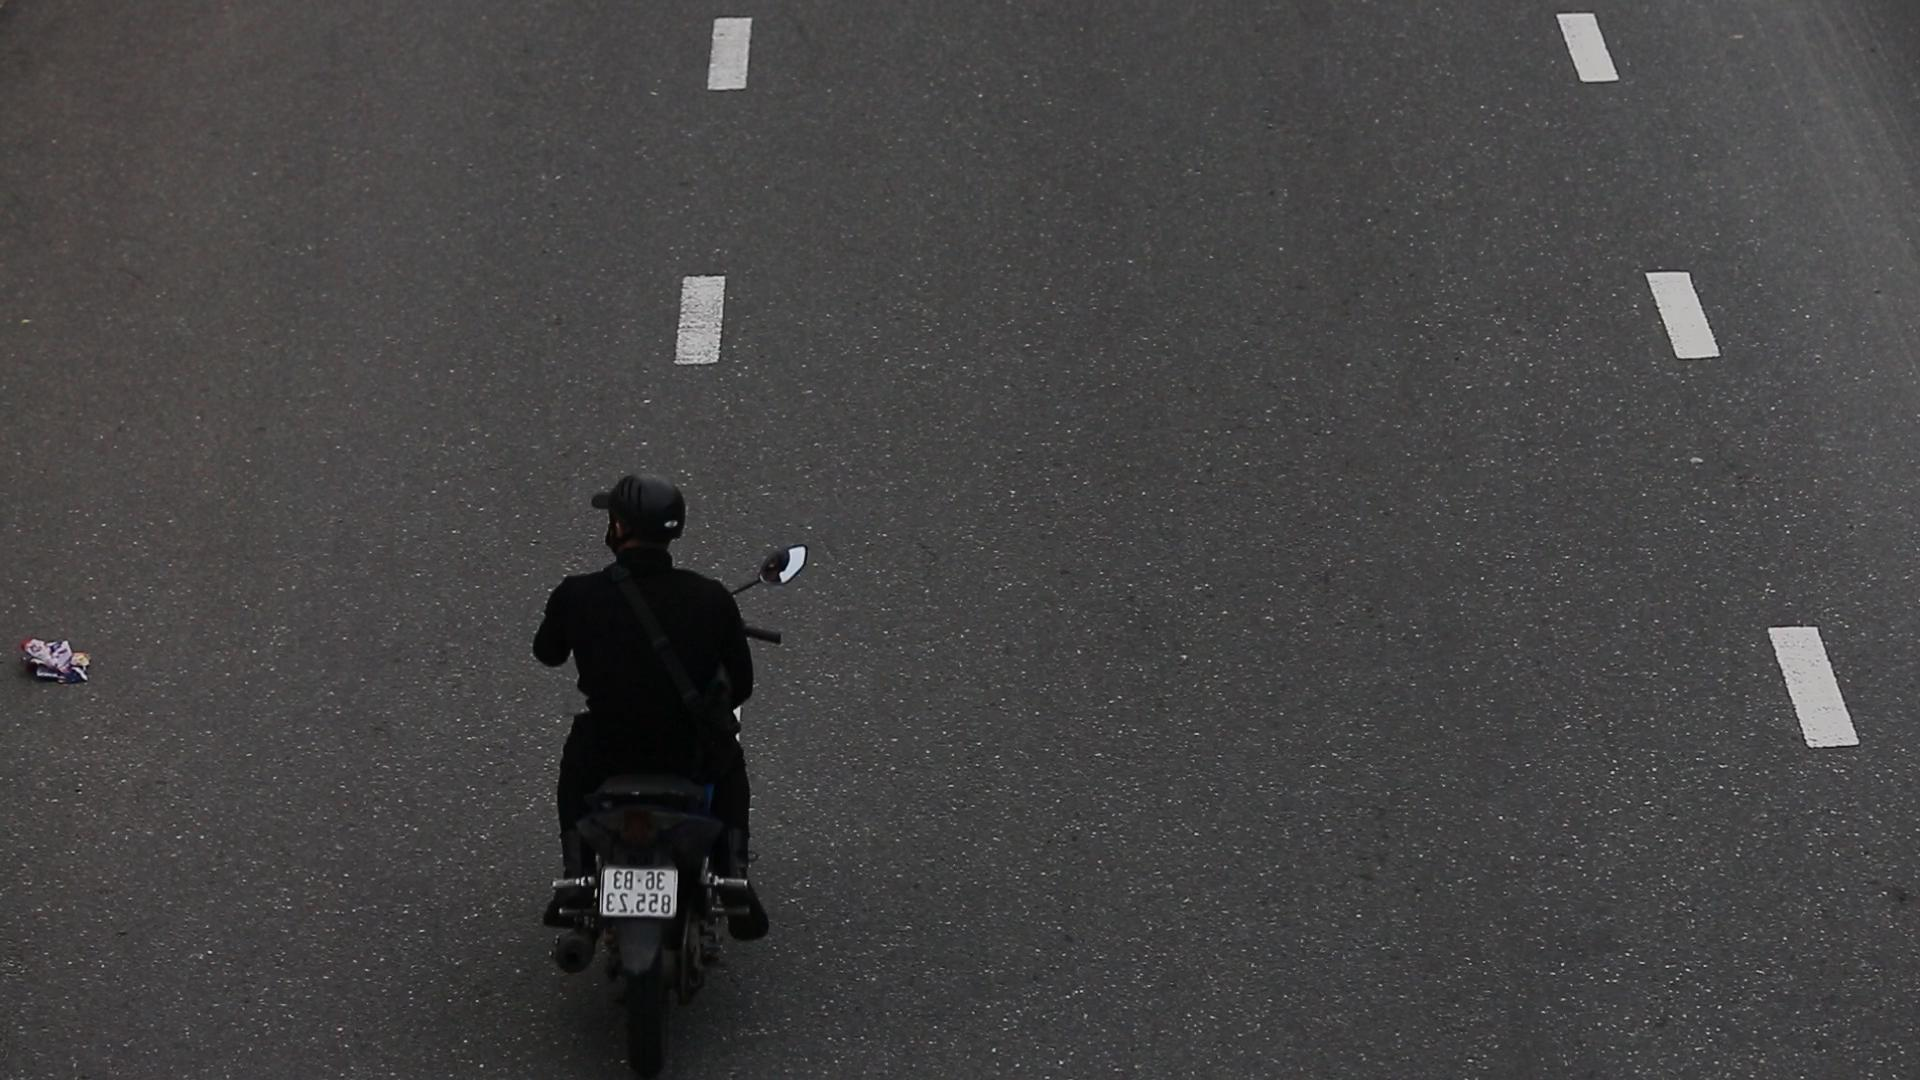motobike: (510, 450, 807, 1076)
